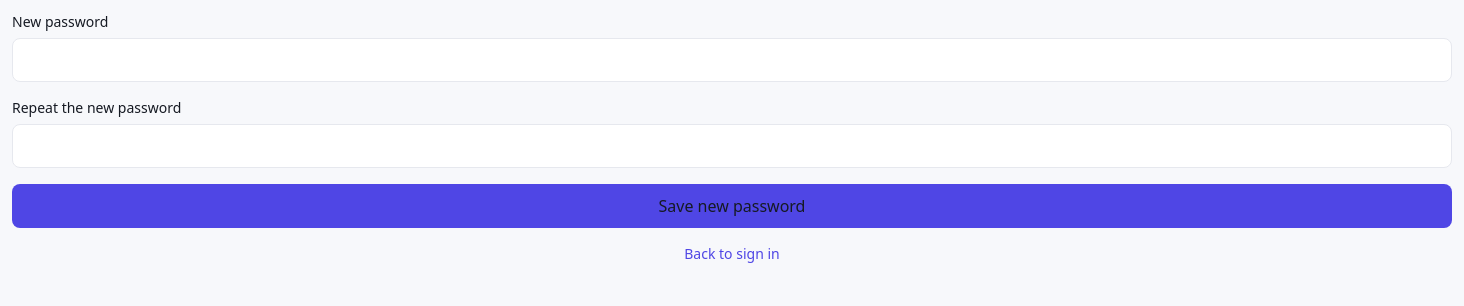
Test: ResetPasswordForm › refuses a mismatched pair without spending a request
Type "a-new-sufficiently-long-password" into the password field labelled "New password" at (732, 60), box [12,38,1452,82]
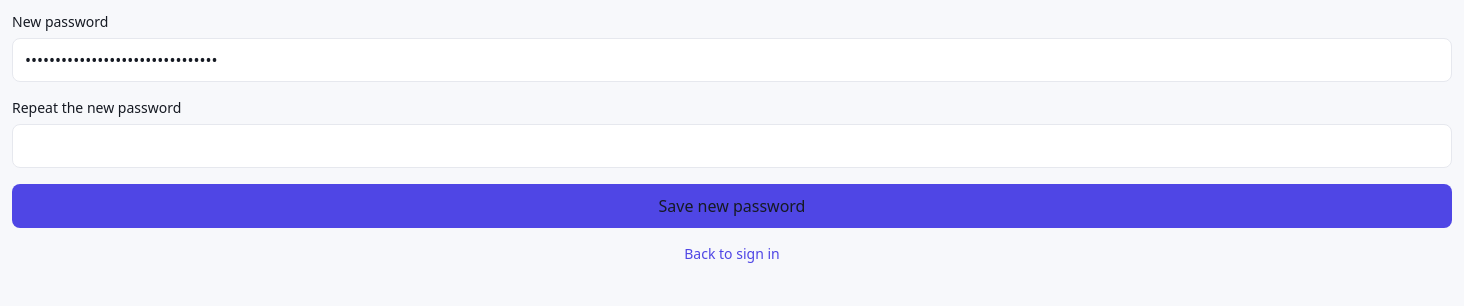
Type "a-different-long-password" into the password field labelled "Repeat the new password" at (732, 146), box [12,124,1452,168]
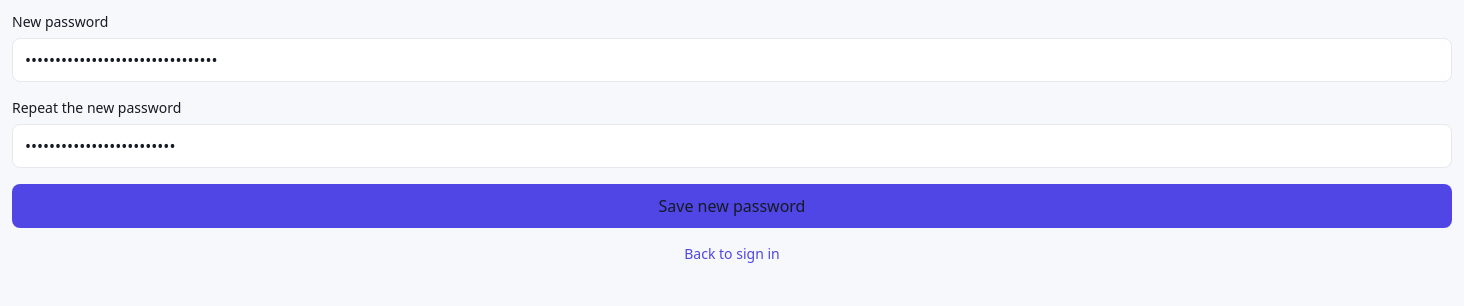
Click the button "Save new password" at (732, 206), box [12,184,1452,228]
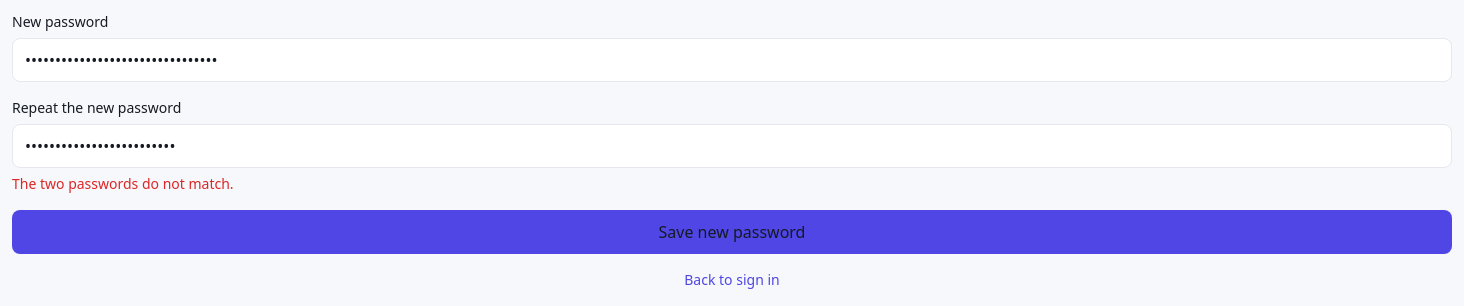
Expected: the text "The two passwords do not match." is shown, [12,174,234,193]
